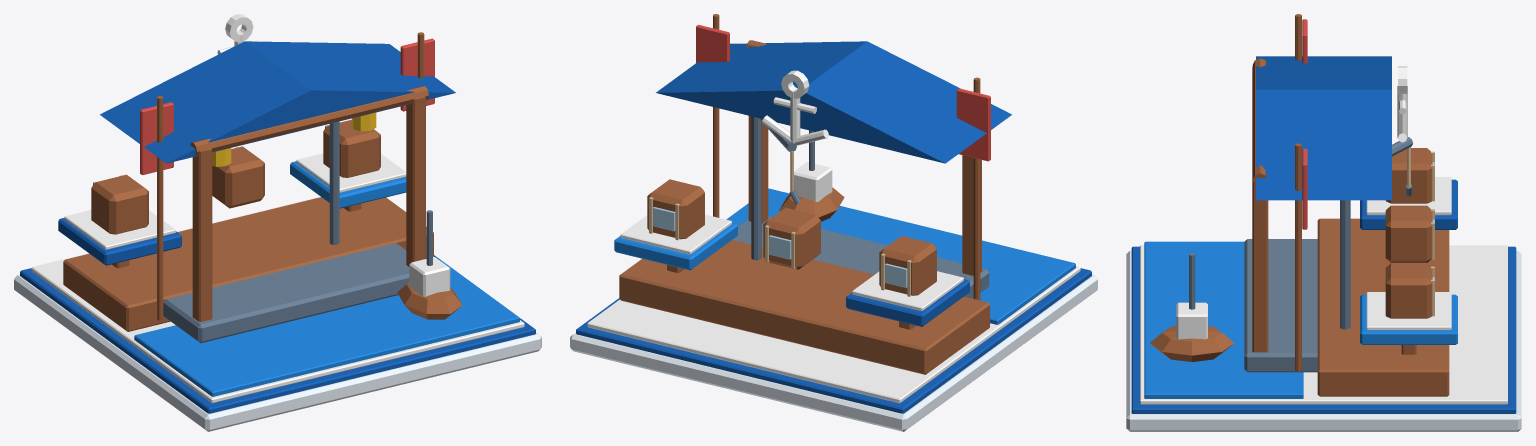
File: Harbor_Stage5_v002.fbx
The picture shows the model from 3 angles, left to right: view 1: azimuth 30°, elevation 25°; view 2: azimuth 150°, elevation 25°; view 3: azimuth 270°, elevation 25°; orthographic projection.
Visible parts, largest first — view 1: FixedShell, WorkingPartMesh, OutputItemMesh, ProcessFinishedMesh, InputItemMesh, EffectPartMesh; view 2: FixedShell, ProcessFinishedMesh, OutputItemMesh, InputItemMesh, WorkingPartMesh; view 3: FixedShell, WorkingPartMesh, ProcessFinishedMesh, InputItemMesh, OutputItemMesh.
Part boxes in pixels (x1,y1,x2,y2): FixedShell: (14,14,541,431); WorkingPartMesh: (397,210,462,319); OutputItemMesh: (91,174,148,234); ProcessFinishedMesh: (212,146,264,208); InputItemMesh: (323,119,380,177); EffectPartMesh: (212,112,376,166); FixedShell: (570,14,1097,431); ProcessFinishedMesh: (763,207,820,269); OutputItemMesh: (879,236,936,296); InputItemMesh: (647,179,704,240); WorkingPartMesh: (779,130,844,221); FixedShell: (1126,14,1521,431); WorkingPartMesh: (1150,253,1234,361); ProcessFinishedMesh: (1385,205,1434,262); InputItemMesh: (1385,263,1434,318); OutputItemMesh: (1385,148,1434,203).
Bounding box in the file's own units: 186 × 147 × 186.
